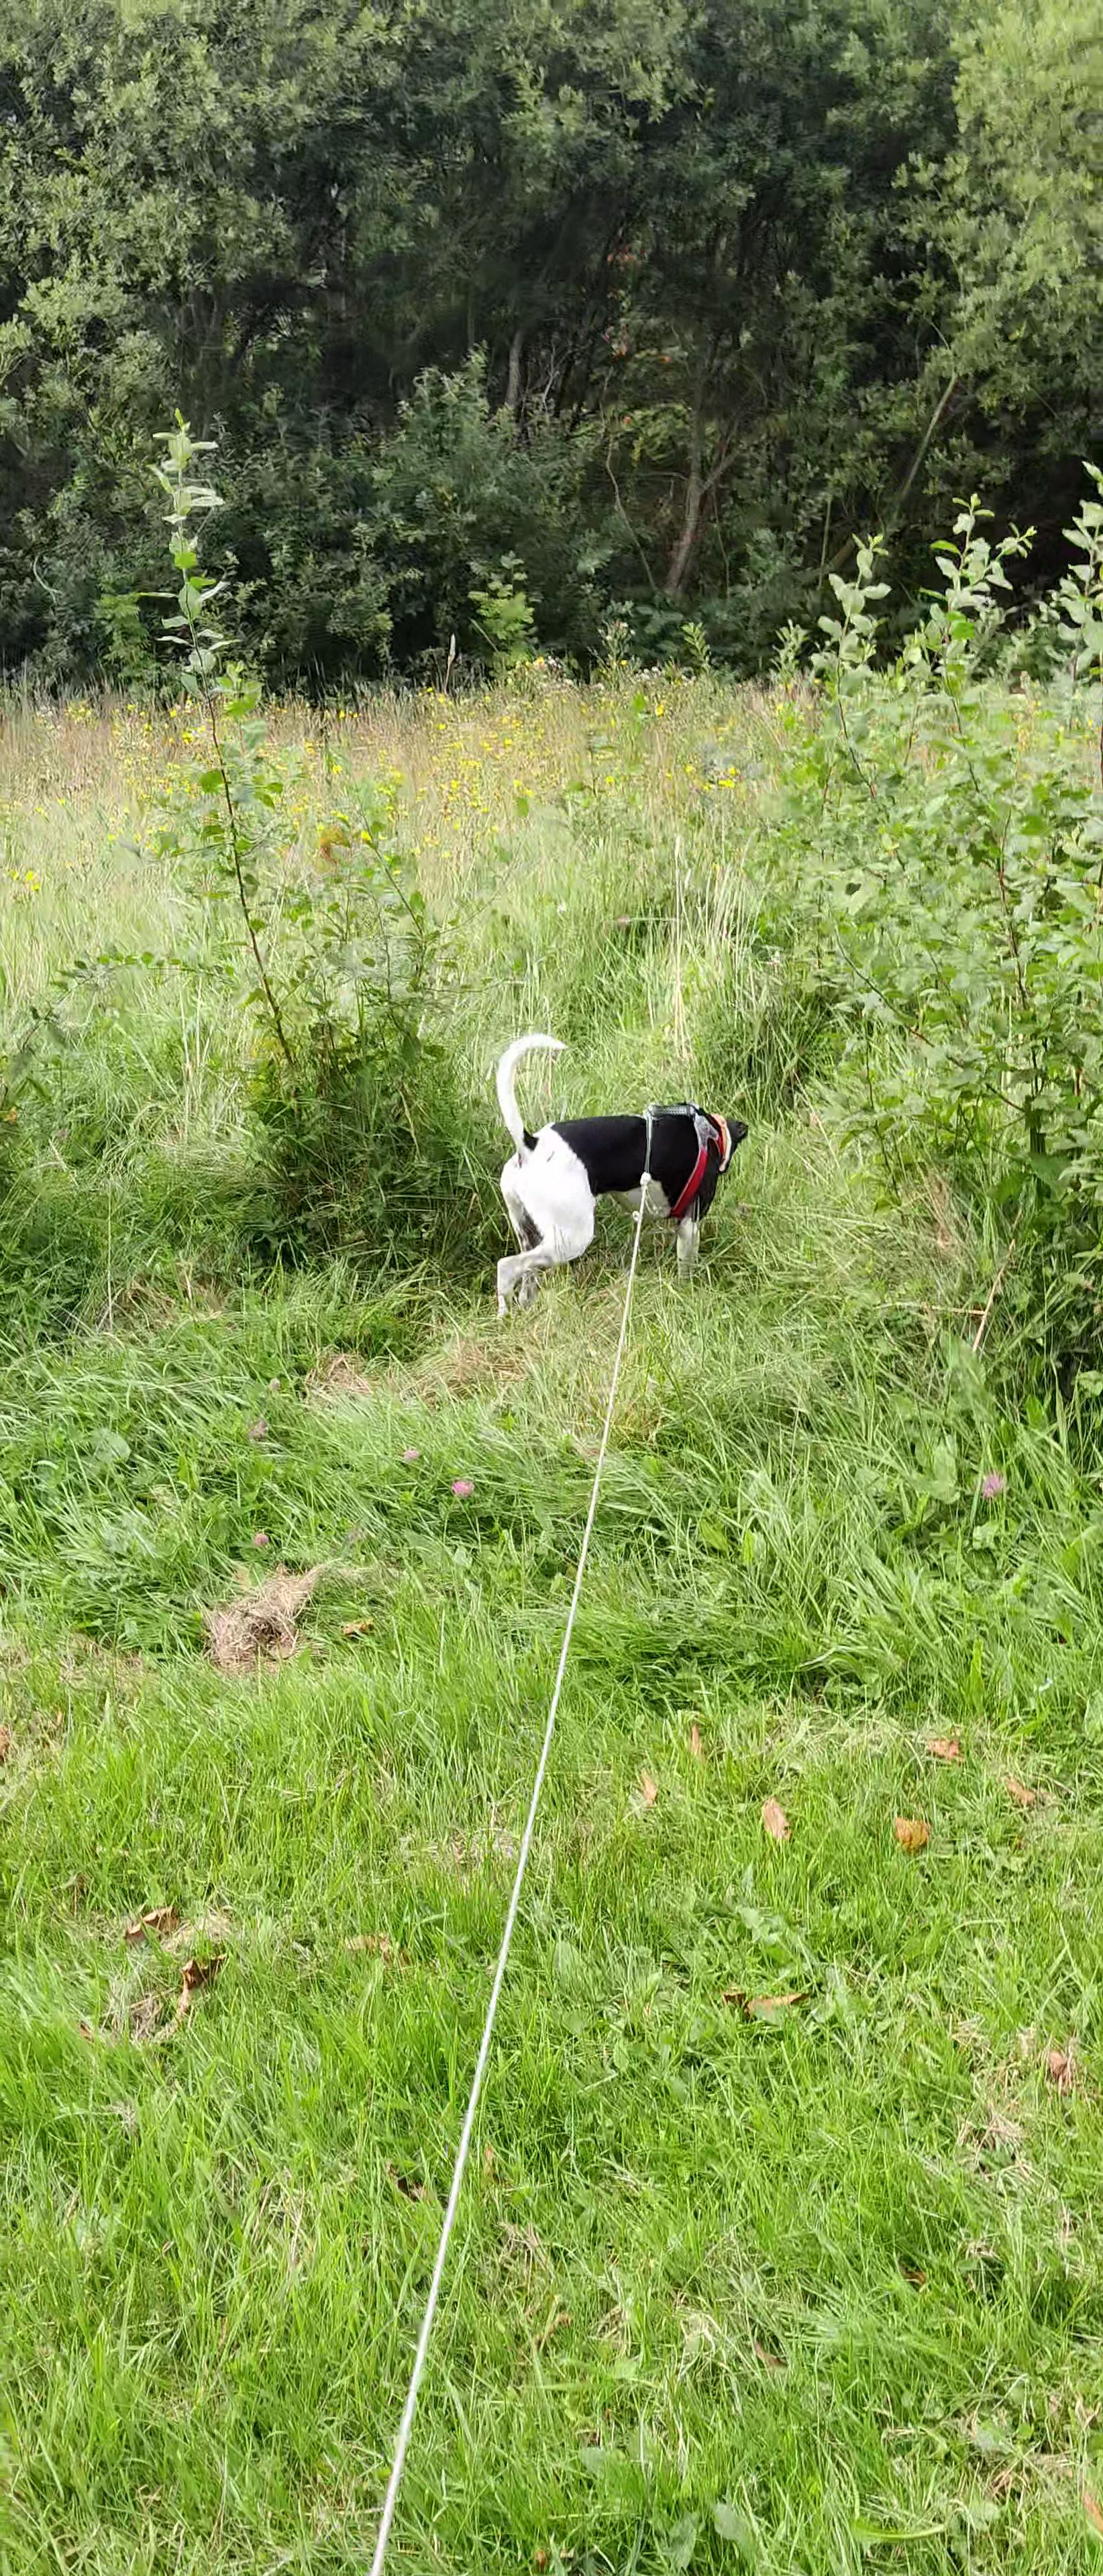Dog: (485, 1023, 756, 1309)
